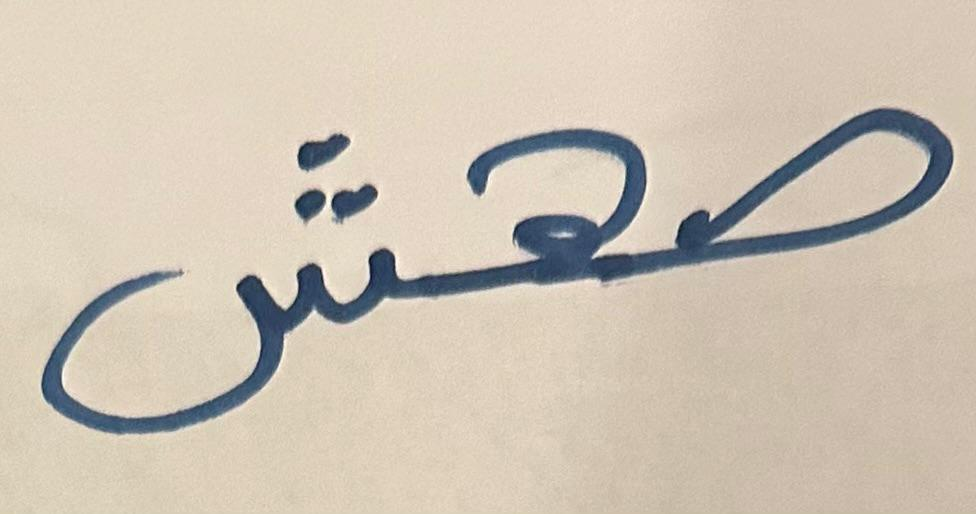jeem: (426, 61, 652, 351)
seen: (656, 36, 964, 331)
tah: (8, 34, 424, 459)
